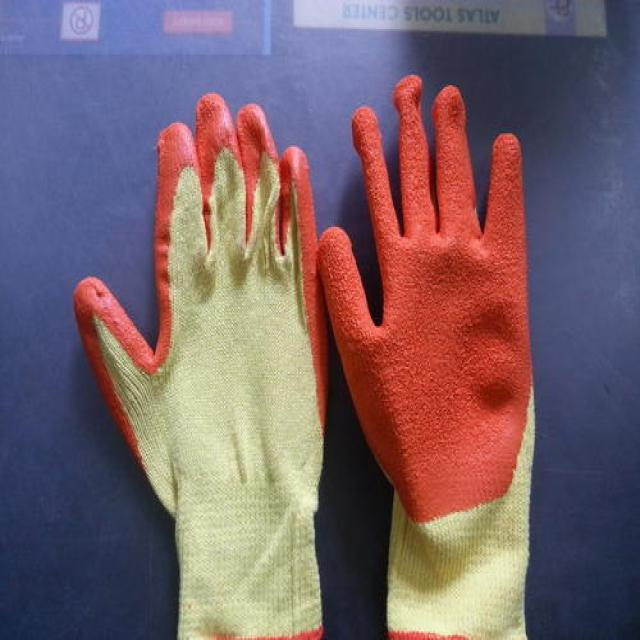gloves: (74, 94, 319, 640), (317, 71, 537, 640)
